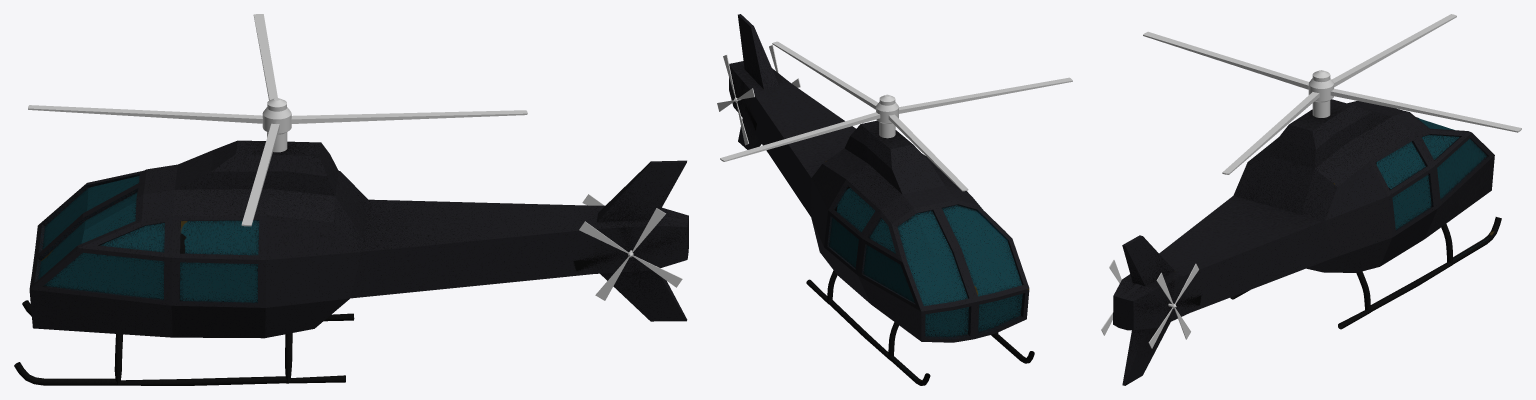
The model's file is anim_000136.obj.
The picture shows the model from 3 angles, left to right: view 1: azimuth 30°, elevation 25°; view 2: azimuth 150°, elevation 25°; view 3: azimuth 270°, elevation 25°; orthographic projection. The views are drawn at different scales.
Visible parts, largest first — view 1: Helicopter.007_Cylinder.008, Helicopter.001_Cylinder.001, Helicopter.003_Cylinder.004; view 2: Helicopter.007_Cylinder.008, Helicopter.001_Cylinder.001, Helicopter.004_Cylinder.005; view 3: Helicopter.007_Cylinder.008, Helicopter.001_Cylinder.001, Helicopter.004_Cylinder.005.
Part boxes in pixels (<box>): Helicopter.007_Cylinder.008: <box>14,140,688,385</box>; Helicopter.001_Cylinder.001: <box>28,14,527,226</box>; Helicopter.003_Cylinder.004: <box>579,208,682,300</box>; Helicopter.007_Cylinder.008: <box>729,14,1034,385</box>; Helicopter.001_Cylinder.001: <box>720,41,1072,191</box>; Helicopter.004_Cylinder.005: <box>717,55,754,145</box>; Helicopter.007_Cylinder.008: <box>1113,99,1501,385</box>; Helicopter.001_Cylinder.001: <box>1143,14,1521,174</box>; Helicopter.004_Cylinder.005: <box>1148,263,1198,348</box>.
Bounding box in the file's own units: 6.89 × 3.21 × 5.33.
